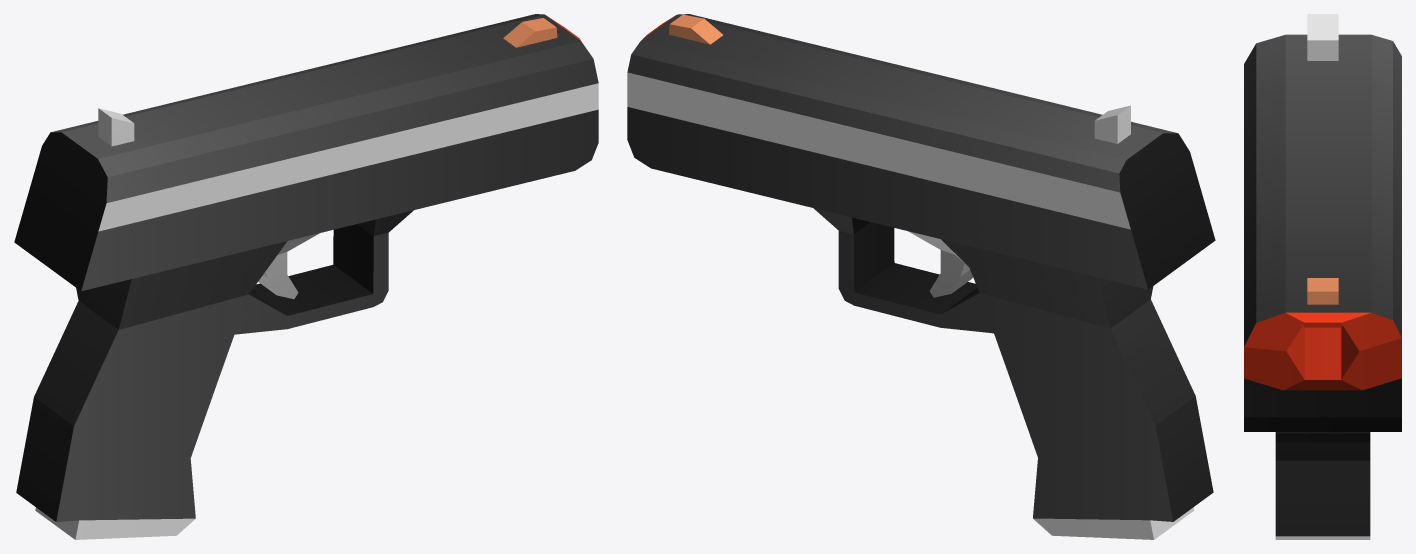
File: Pistol_0.fbx
The picture shows the model from 3 angles, left to right: view 1: azimuth 30°, elevation 25°; view 2: azimuth 150°, elevation 25°; view 3: azimuth 270°, elevation 25°; orthographic projection. The views are drawn at different scales.
Parts seen in each view (by area): view 1: Dull gun; view 2: Dull gun; view 3: Dull gun.
Part boxes in pixels (x1=…): Dull gun: x1=14, y1=14, x2=598, y2=539; Dull gun: x1=627, y1=14, x2=1215, y2=539; Dull gun: x1=1244, y1=14, x2=1401, y2=539.
Bounding box in the file's own units: 117 × 87.85 × 25.33.
